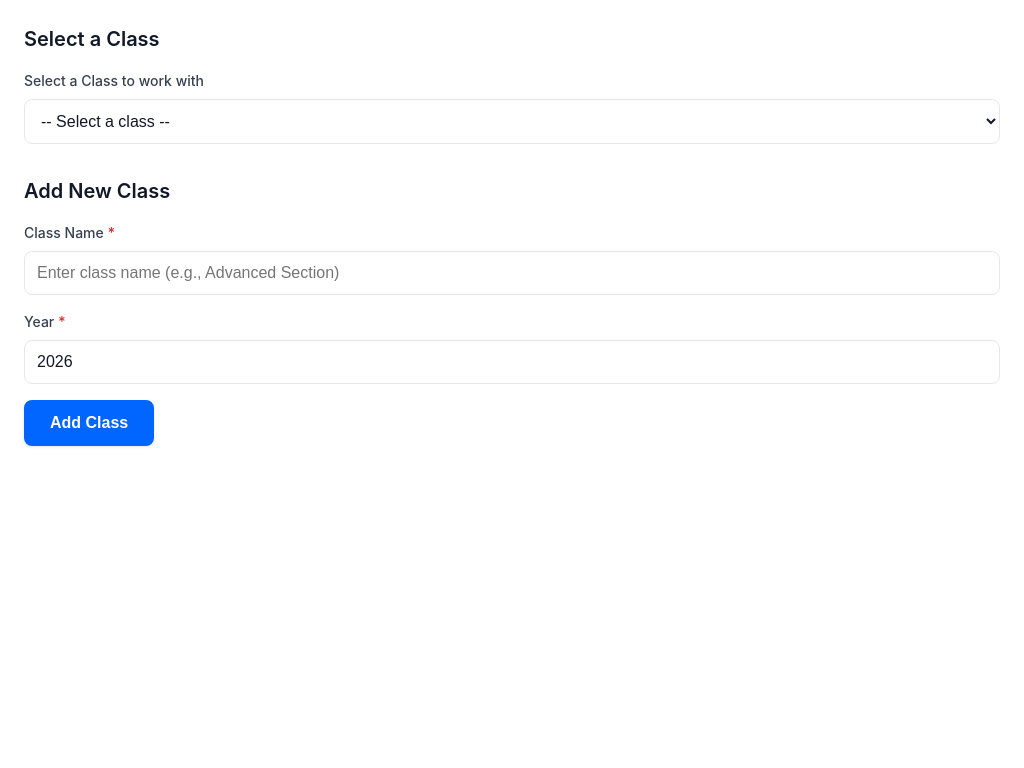
it: ClassManagementModal › Delete Class › should show delete confirmation dialog
Note: Select a class
Select "Advanced Section (2024)" in the dropdown labelled "Select a Class to work with" at (512, 122), box 24,99 -> 1000,144
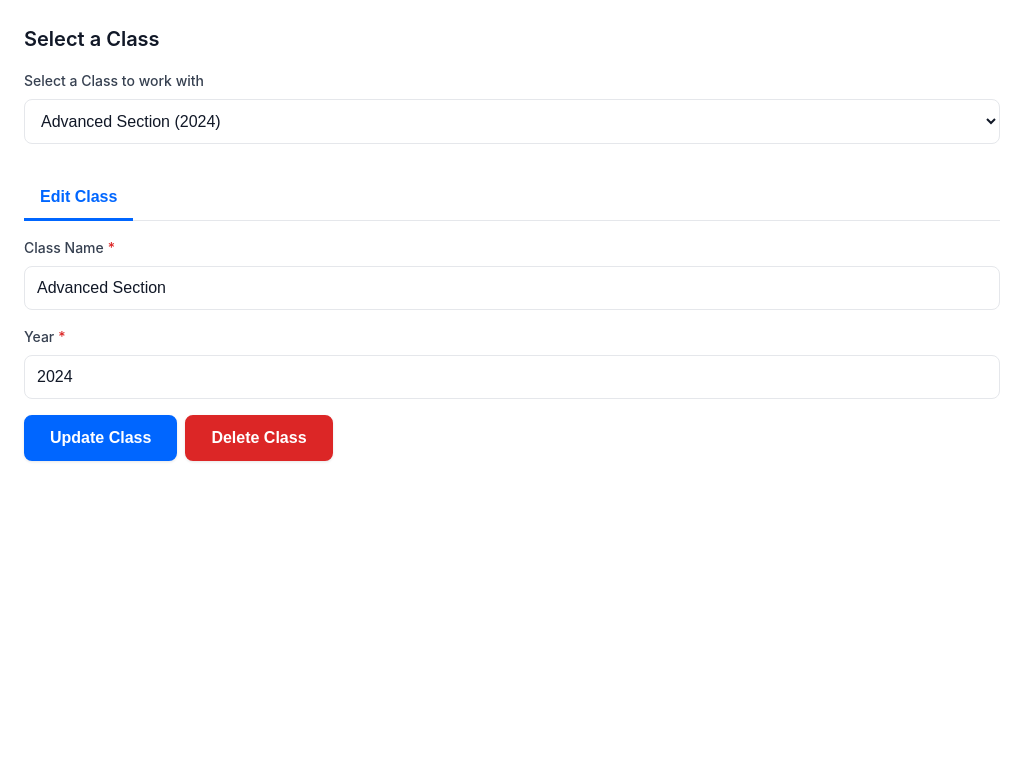
Click the button "Delete Class" at (259, 438), box 185,415 -> 333,461
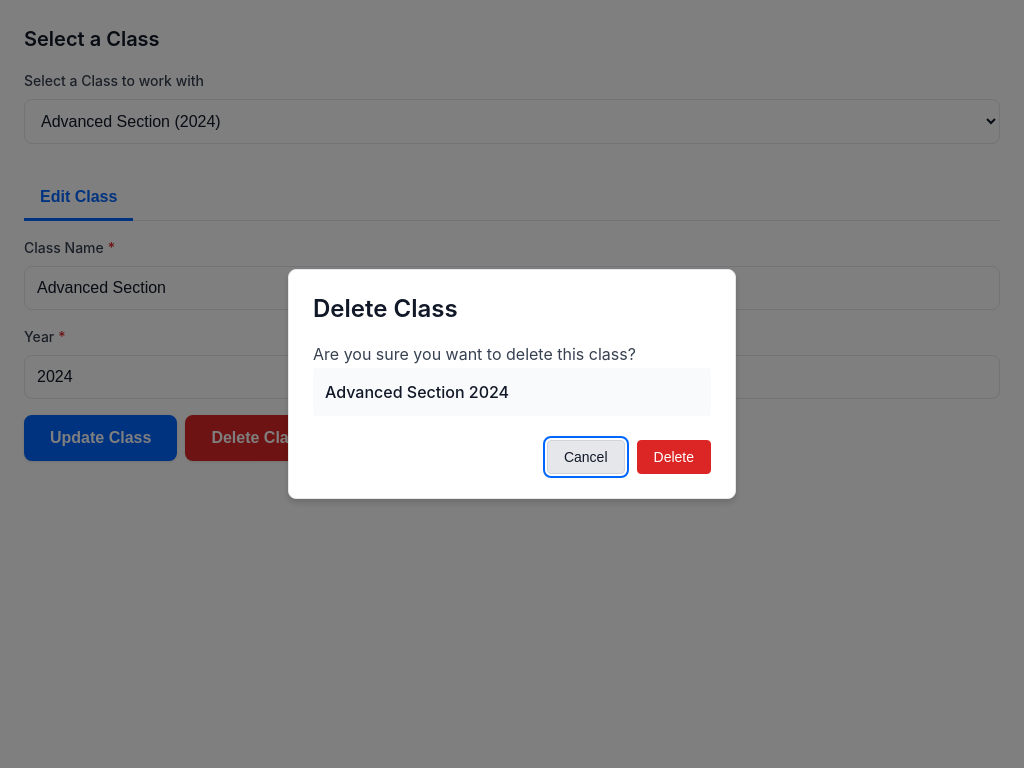
Result: the text "Are you sure you want to delete this class?" is shown at 313,344 -> 636,364
